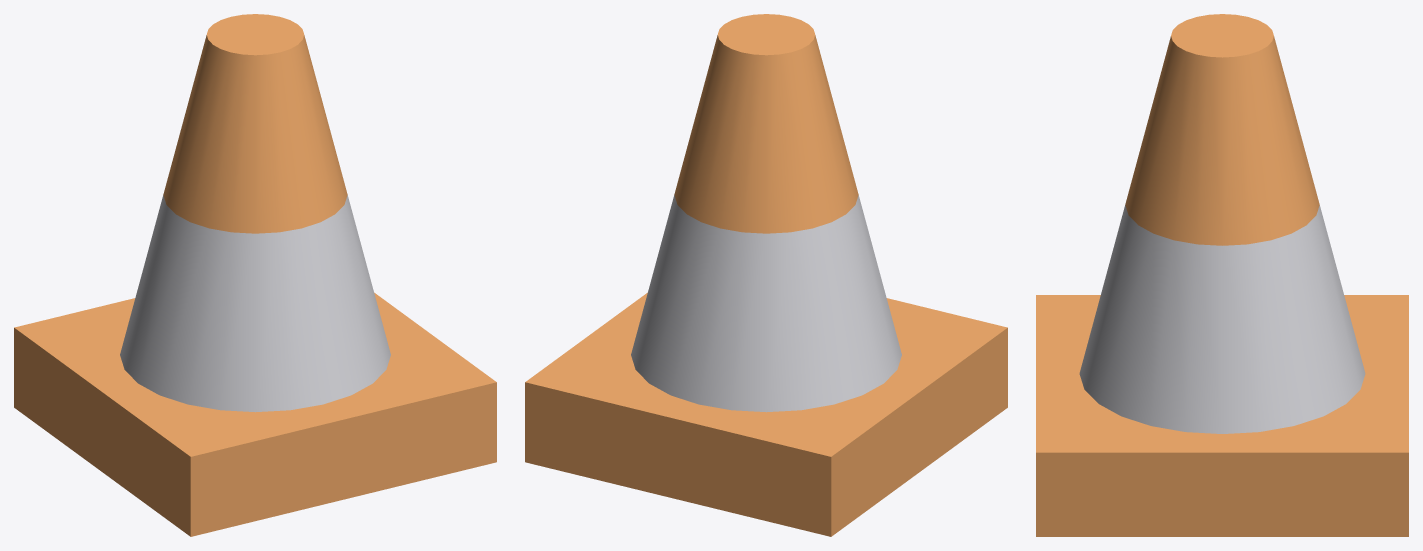
The model's file is construction_pylon.gltf.
The picture shows the model from 3 angles, left to right: view 1: azimuth 30°, elevation 25°; view 2: azimuth 150°, elevation 25°; view 3: azimuth 270°, elevation 25°; orthographic projection. The views are drawn at different scales.
Parts seen in each view (by area): view 1: construction_pylon; view 2: construction_pylon; view 3: construction_pylon.
Part boxes in pixels (<box>): construction_pylon: <box>14,14,496,536</box>; construction_pylon: <box>525,14,1007,536</box>; construction_pylon: <box>1036,14,1408,536</box>.
Size of the model in its own units: 0.075 by 0.0938 by 0.075.
